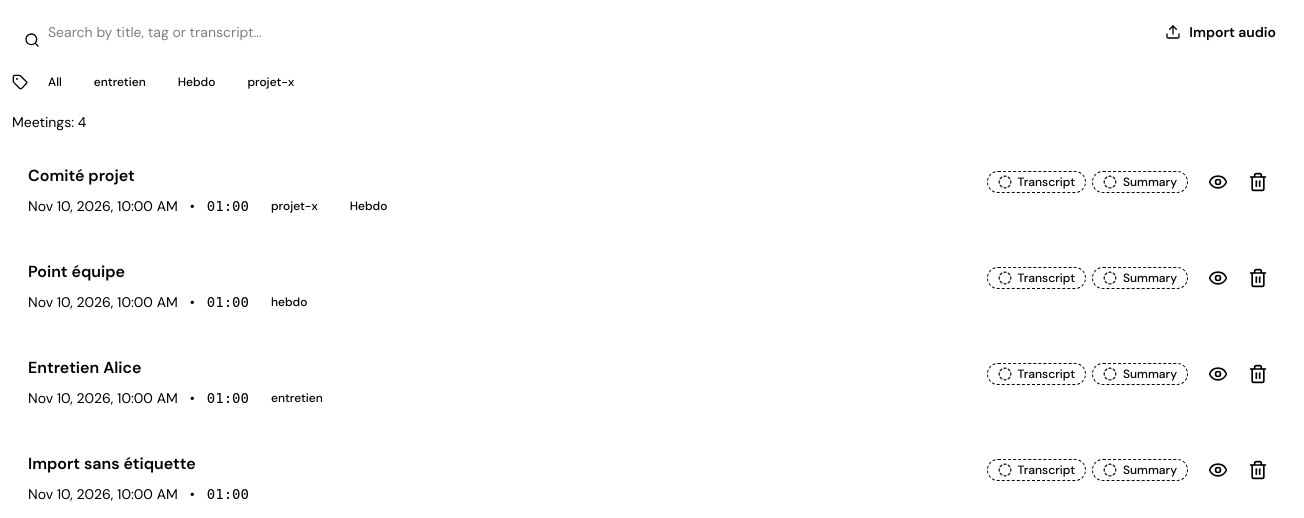
it: RecordingsTab — étiquettes › filtre par étiquette depuis la barre, et « Toutes » retire le filtre
The image size is (1304, 518).
Click the 1st button "Hebdo": click(197, 82) [166, 68, 227, 96]
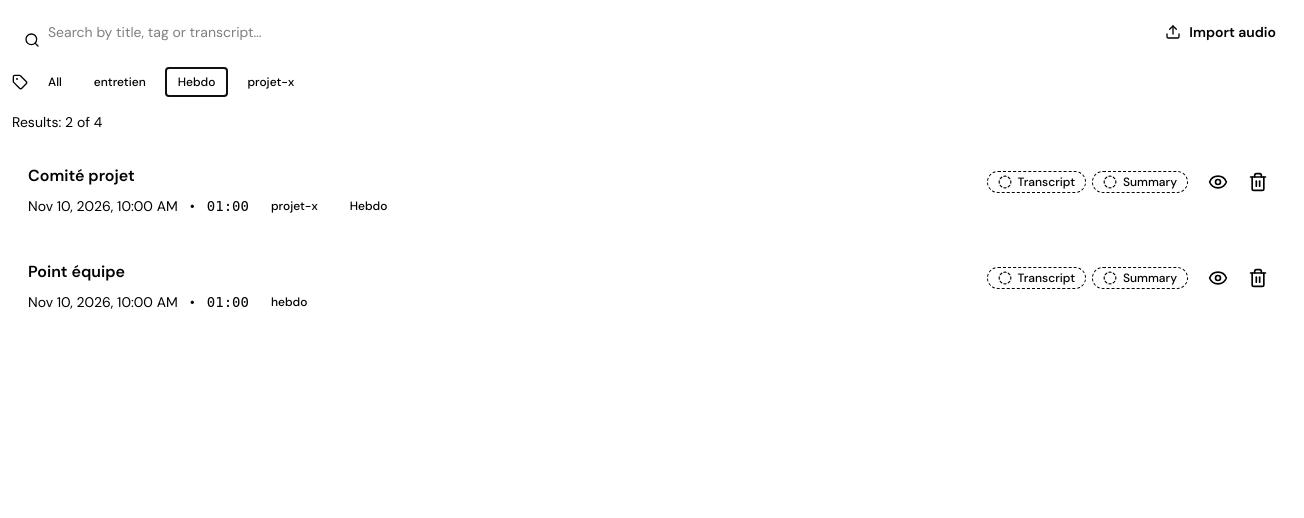
Expected: the text "Results: 2 of 4" is shown, [12, 113, 102, 131]
Click the button "All": click(55, 82) [36, 68, 74, 96]
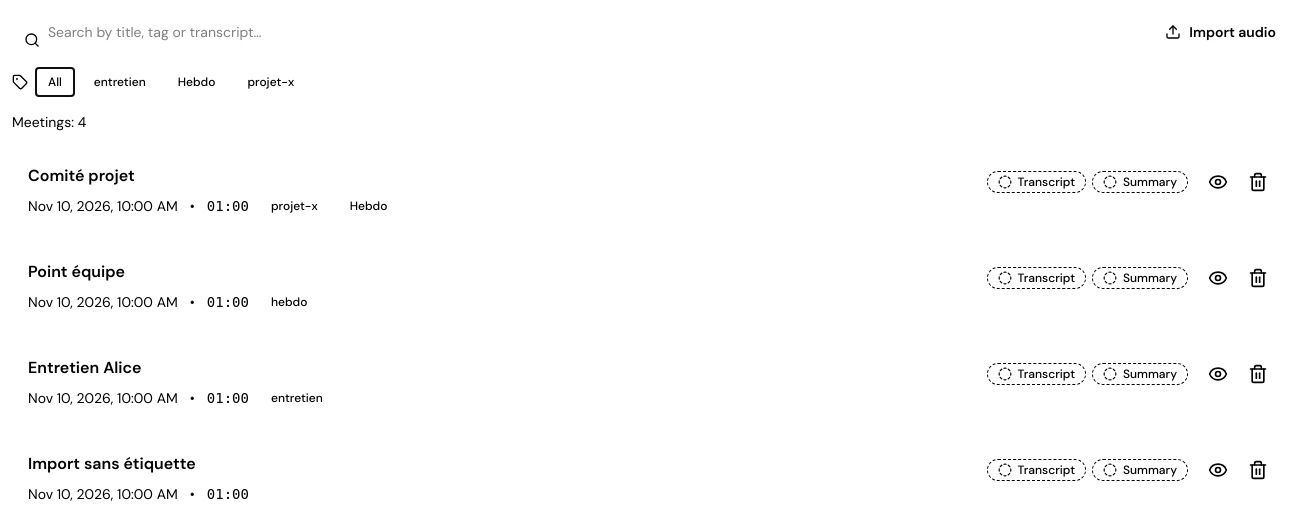
Expected: the number of headings is 4, [28, 165, 135, 186]; [28, 261, 125, 282]; [28, 357, 142, 378]; [28, 453, 196, 474]
